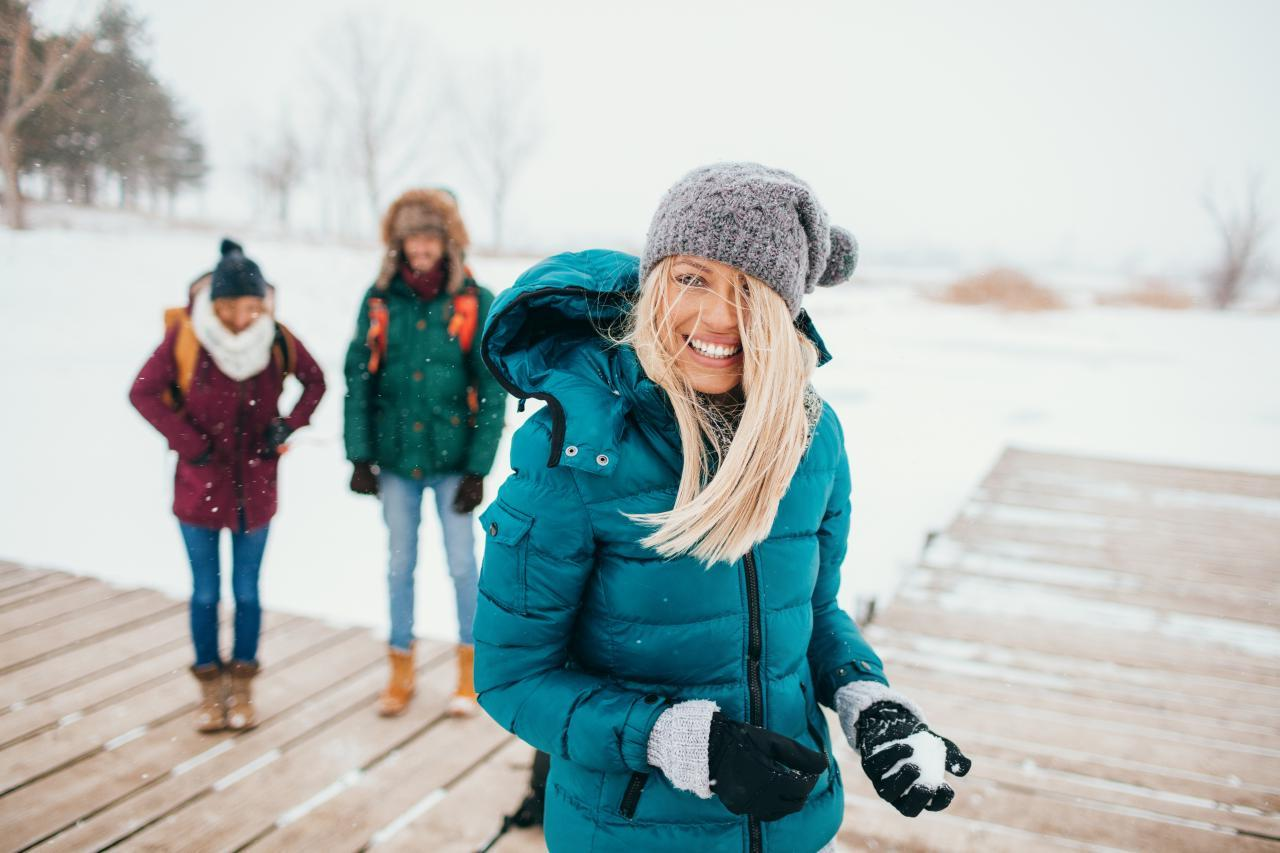coat: (463, 245, 890, 853), (340, 186, 511, 479), (127, 310, 333, 531)
trousers: (377, 468, 482, 653), (173, 515, 274, 665)
